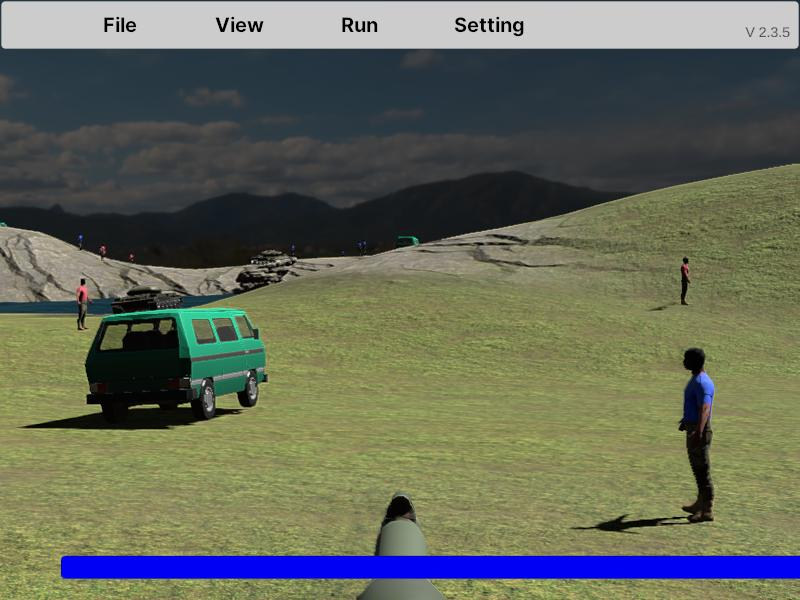Human: (678, 346, 715, 522)
car: (86, 308, 268, 426)
